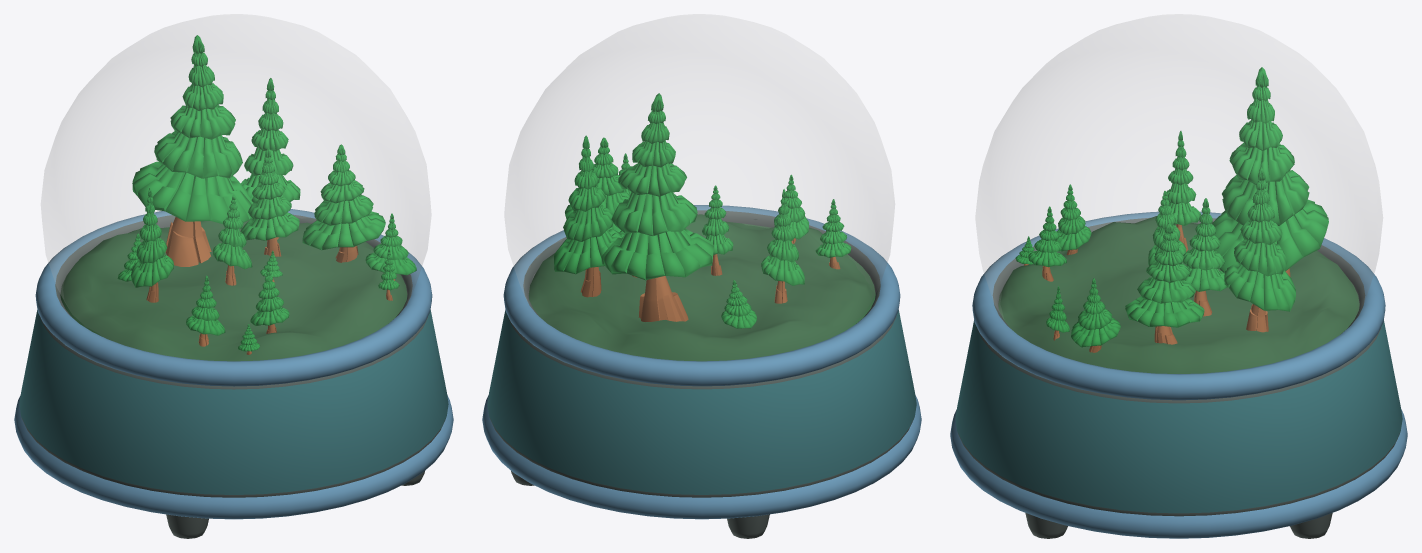
File: forest_globe.fbx
The picture shows the model from 3 angles, left to right: view 1: azimuth 30°, elevation 25°; view 2: azimuth 150°, elevation 25°; view 3: azimuth 270°, elevation 25°; orthographic projection. The views are drawn at different scales.
Visible parts, largest first — view 1: model_0, model_1.001, model_22; view 2: model_0, model_22, model_1.001; view 3: model_0, model_22, model_1.001.
Part boxes in pixels (<box>): model_0: <box>14,209,453,538</box>; model_1.001: <box>60,35,416,361</box>; model_22: <box>41,14,431,305</box>; model_0: <box>482,205,921,538</box>; model_22: <box>504,14,894,305</box>; model_1.001: <box>528,93,875,361</box>; model_0: <box>950,211,1407,538</box>; model_22: <box>975,14,1382,319</box>; model_1.001: <box>998,67,1359,373</box>.
Size of the model in its own units: 1895 by 2043 by 1895.
